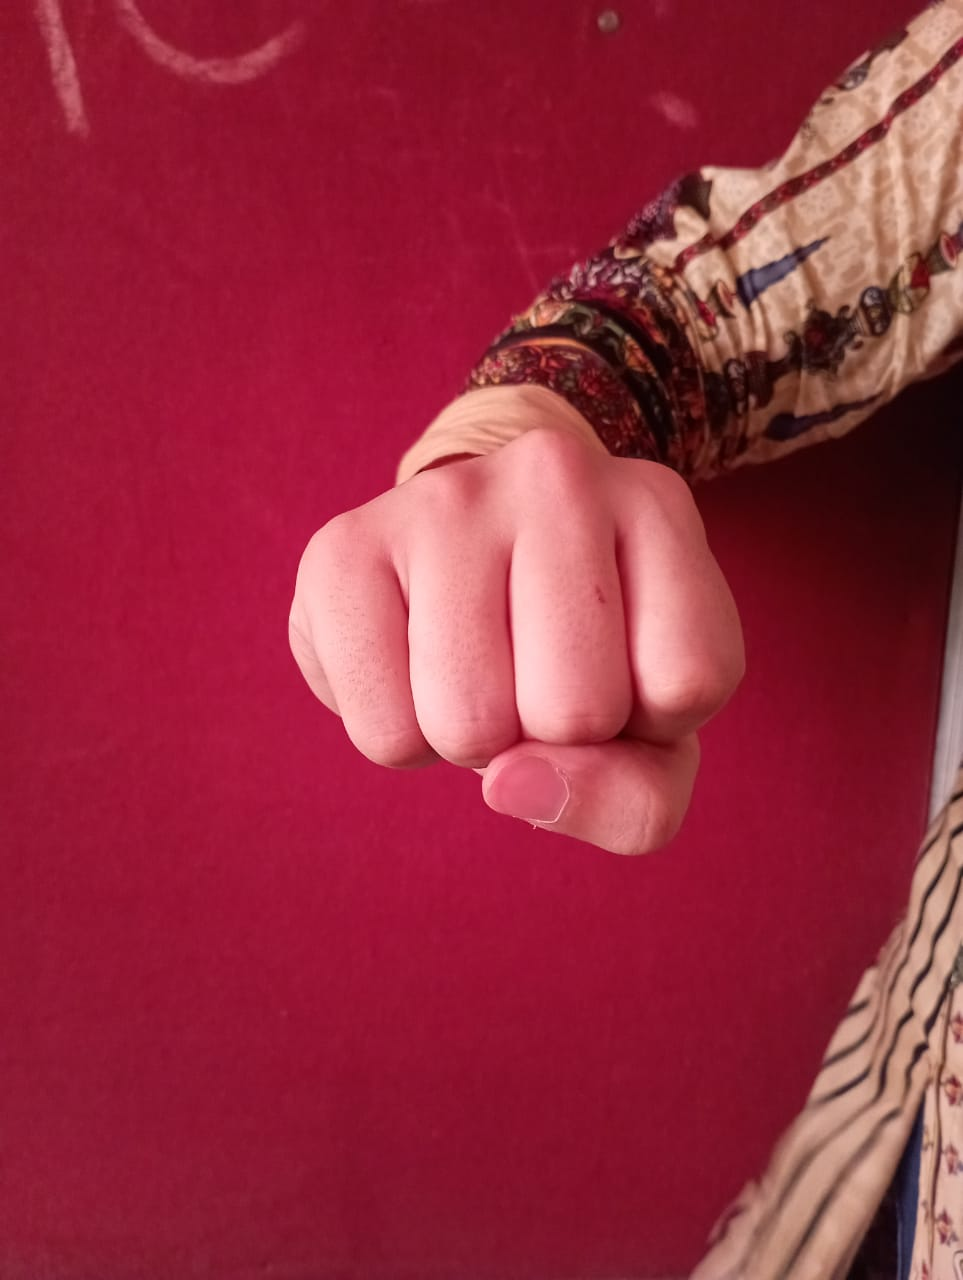BroCode: (272, 427, 756, 878)
